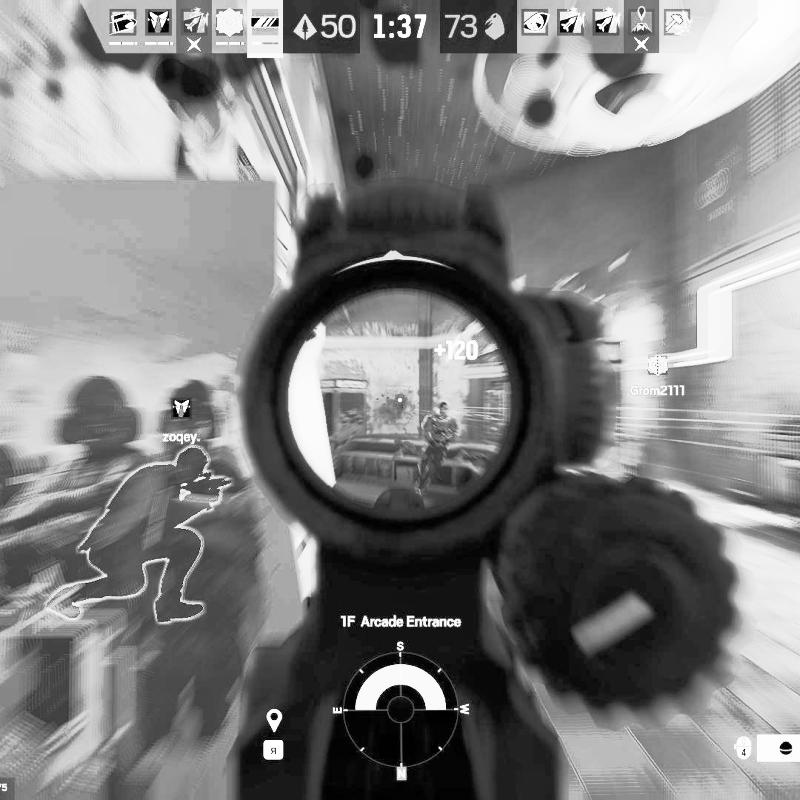Character: (413, 400, 460, 496)
Friend_label: (629, 353, 686, 398), (162, 396, 201, 444)
Head: (438, 400, 448, 416)
